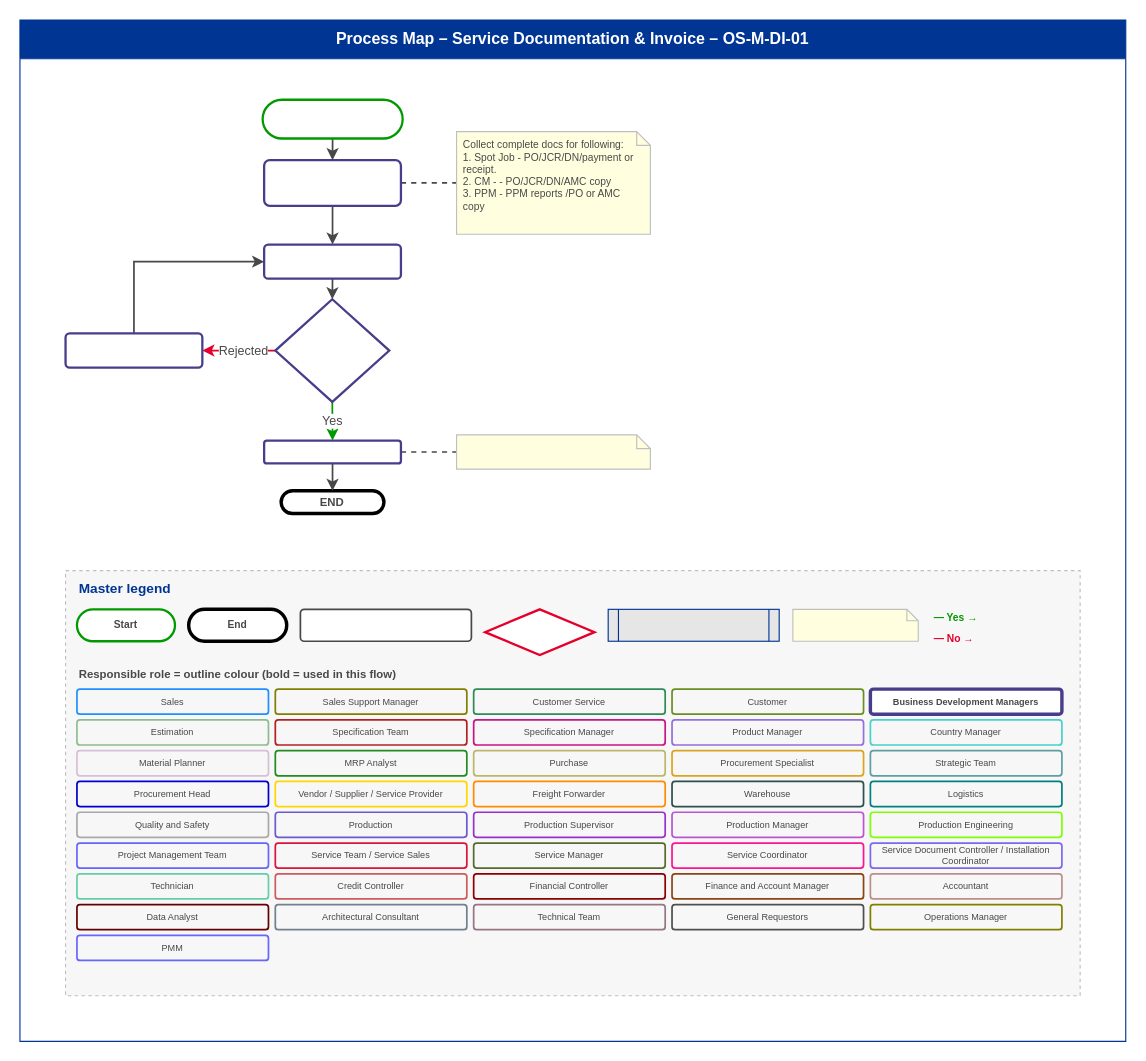
Some shapes in this 1146 by 1061 pixel diagram are drawn without their labels. Each missing label, with the centre of its shape:
"Activity (outline = role)" belongs at (385,625).
"Collect Documents from Coordinators /Service sales" belongs at (332,182).
"Create and Share Invoice with customer" belongs at (332,261).
"Decision" belongs at (539,632).
"Invoice Approved ?" belongs at (332,350).
"Linked process (Ref ID)" belongs at (693,624).
"Note / checklist" belongs at (855,624).
"Return Information to concern Coordinator" belongs at (133,350).
"Service Documentation & Invoice" belongs at (332,118).
"Update Service Register" belongs at (332,451).
"Update Service Register in excel and SAP" belongs at (552,451).
